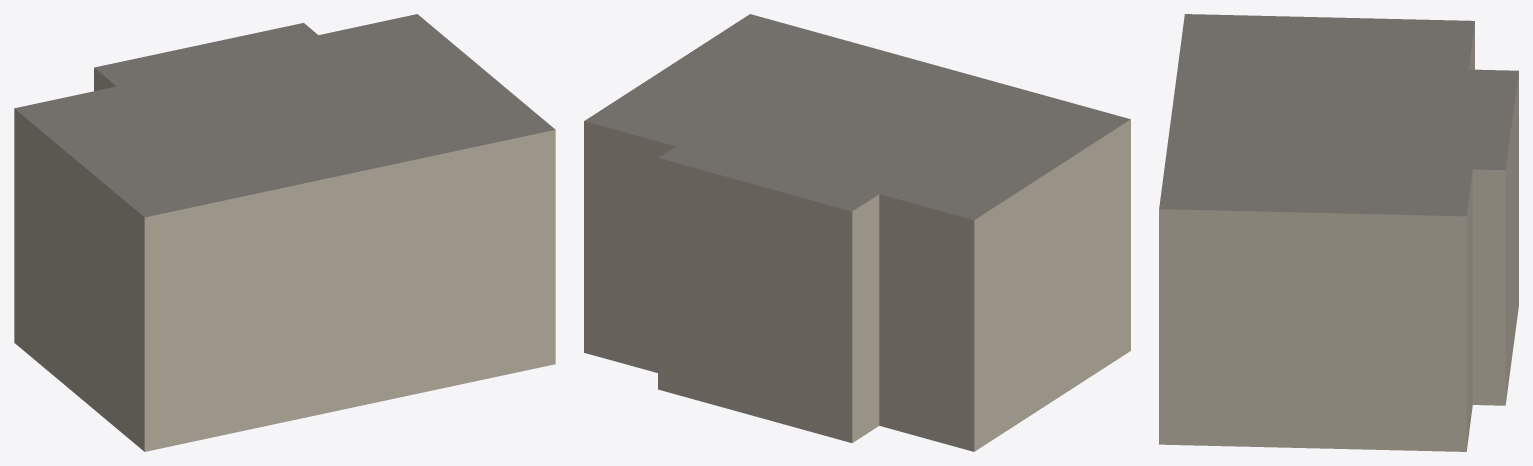
3 renders of one model, left to right at view 1: azimuth 30°, elevation 25°; view 2: azimuth 150°, elevation 25°; view 3: azimuth 270°, elevation 25°, orthographic.
Visible parts, largest first — view 1: HP-w734461624; view 2: HP-w734461624; view 3: HP-w734461624.
Boxes of the visible parts, x1=… form: HP-w734461624: x1=14, y1=14, x2=555, y2=451; HP-w734461624: x1=584, y1=14, x2=1130, y2=451; HP-w734461624: x1=1159, y1=14, x2=1518, y2=451.
Bounding box in the file's own units: 33.19 × 18 × 24.92.
